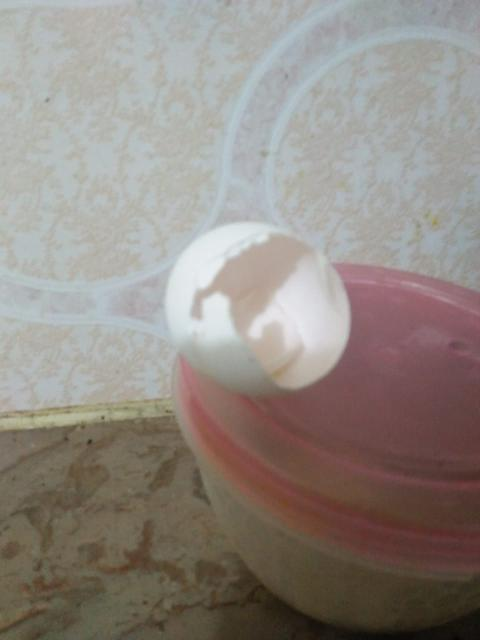Roto: (167, 220, 353, 393)
